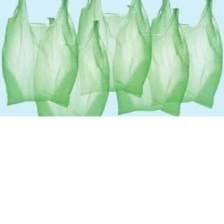plastic_bag: (107, 0, 192, 120), (0, 0, 82, 110), (32, 13, 115, 121), (143, 0, 224, 110), (70, 0, 154, 100)
